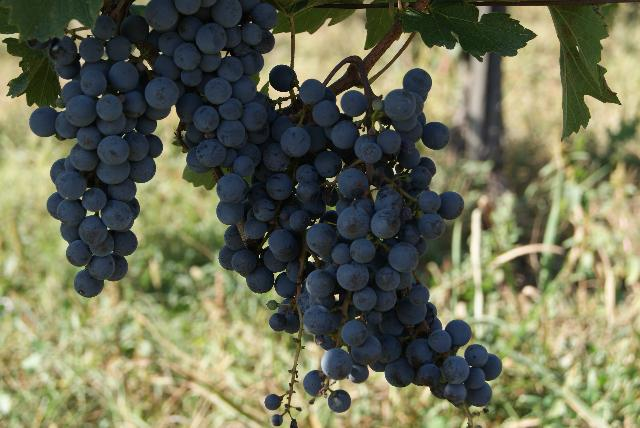grapes: (296, 69, 501, 410), (30, 15, 178, 298), (236, 79, 372, 330), (120, 0, 278, 171)
